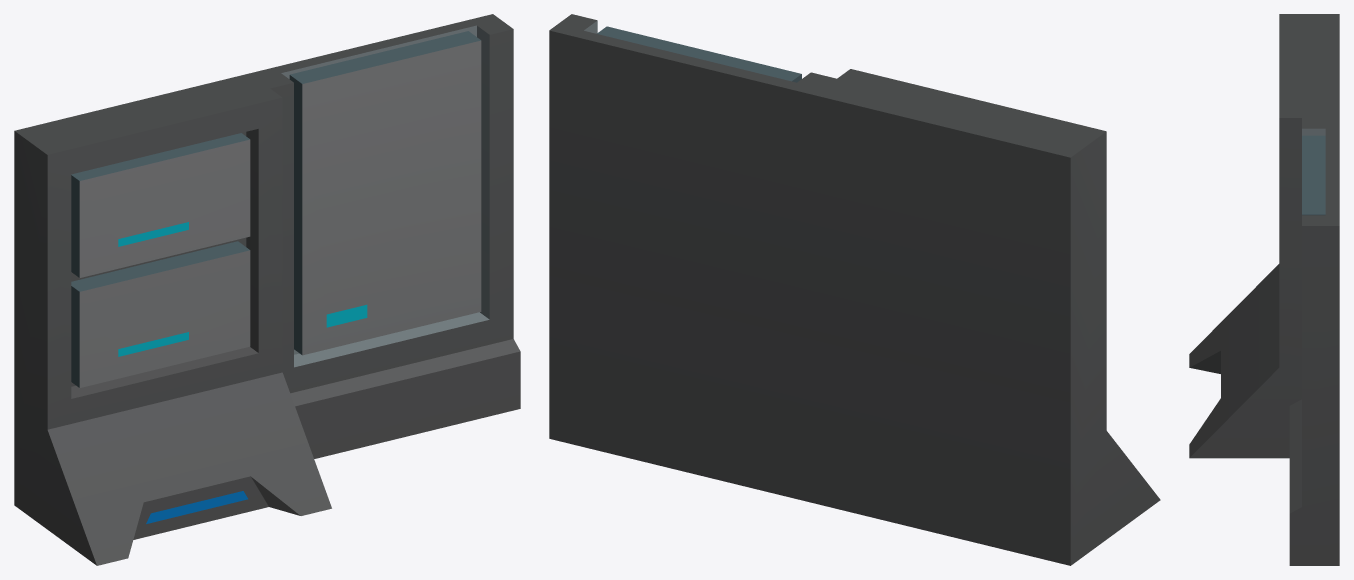
File: Wall_type_B_034.fbx
3 views of the same model, side by side, from view 1: azimuth 30°, elevation 25°; view 2: azimuth 150°, elevation 25°; view 3: azimuth 270°, elevation 25° (orthographic). The views are drawn at different scales.
Parts seen in each view (by area): view 1: Wall_type_B_034; view 2: Wall_type_B_034; view 3: Wall_type_B_034.
Boxes of the visible parts, x1=… form: Wall_type_B_034: x1=14, y1=14, x2=520, y2=565; Wall_type_B_034: x1=549, y1=14, x2=1160, y2=565; Wall_type_B_034: x1=1189, y1=14, x2=1339, y2=565.
Size of the model in its own units: 200 by 60 by 150.
